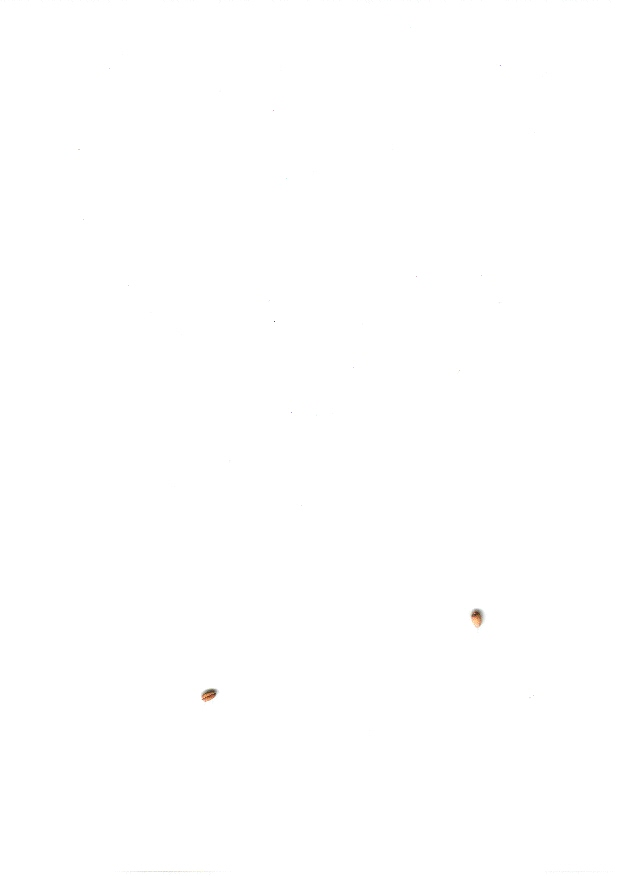grains: (192, 680, 229, 711), (459, 603, 492, 634)
